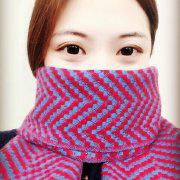OK: (46, 29, 156, 139)
